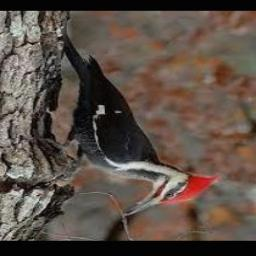Woodpecker: (61, 25, 219, 216)
